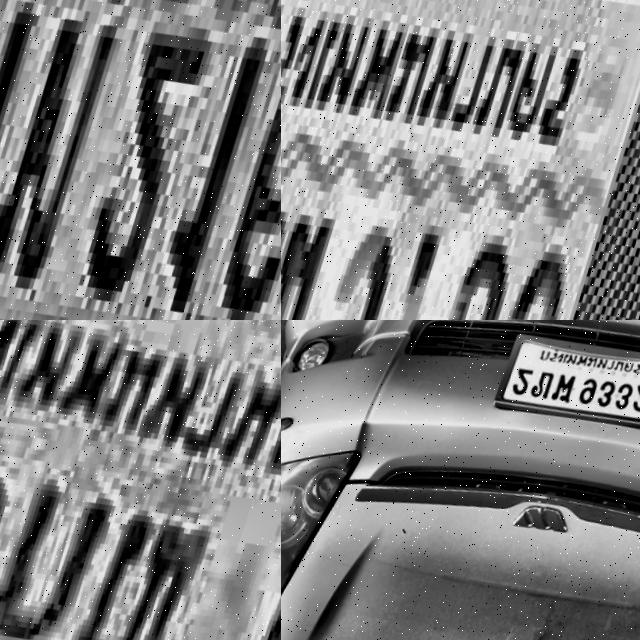license-plate: (281, 0, 640, 320), (0, 0, 281, 320), (0, 320, 281, 640), (487, 321, 640, 455)
